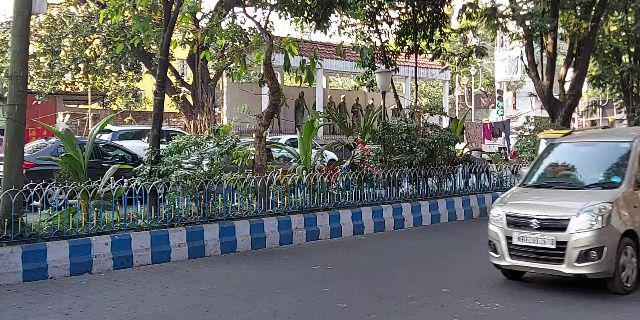Car: (480, 124, 640, 290)
